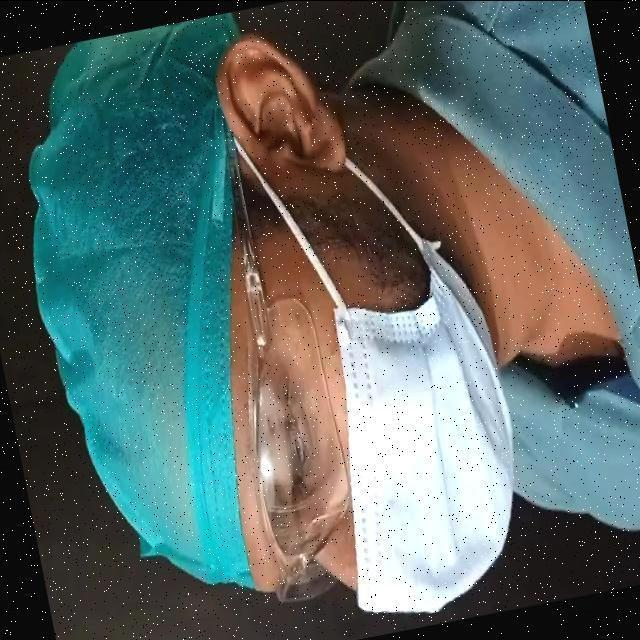gloves: (0, 0, 369, 574)
mask: (308, 238, 502, 600)
